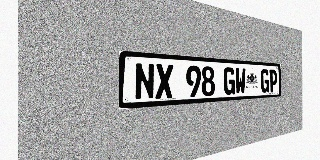8: (201, 66, 215, 96)
9: (186, 65, 201, 97)
G: (224, 67, 235, 95), (261, 69, 269, 93)
N: (134, 62, 155, 100)
P: (269, 69, 277, 92)
W: (235, 68, 246, 94)
X: (155, 64, 173, 99)
